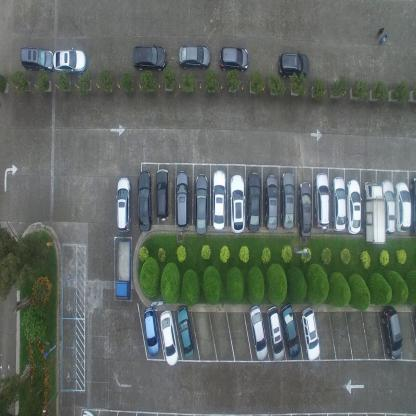car: (364, 179, 387, 244), (280, 301, 300, 358), (159, 308, 178, 367), (249, 304, 268, 362), (266, 305, 285, 361), (301, 305, 320, 361), (132, 42, 167, 71), (116, 238, 132, 300), (178, 41, 211, 71), (228, 174, 245, 232), (18, 44, 52, 73), (382, 306, 400, 360), (280, 169, 296, 229), (176, 305, 194, 358), (330, 175, 347, 231), (116, 176, 132, 235), (137, 170, 152, 232), (278, 49, 309, 79), (314, 172, 330, 230), (52, 46, 86, 73), (346, 178, 362, 235), (395, 180, 412, 233), (175, 170, 190, 230), (195, 172, 209, 235), (380, 179, 396, 234), (212, 168, 226, 230), (246, 170, 260, 231), (218, 44, 248, 72), (298, 180, 312, 238), (143, 306, 159, 356), (264, 173, 278, 230), (156, 167, 169, 222), (410, 176, 416, 237)
